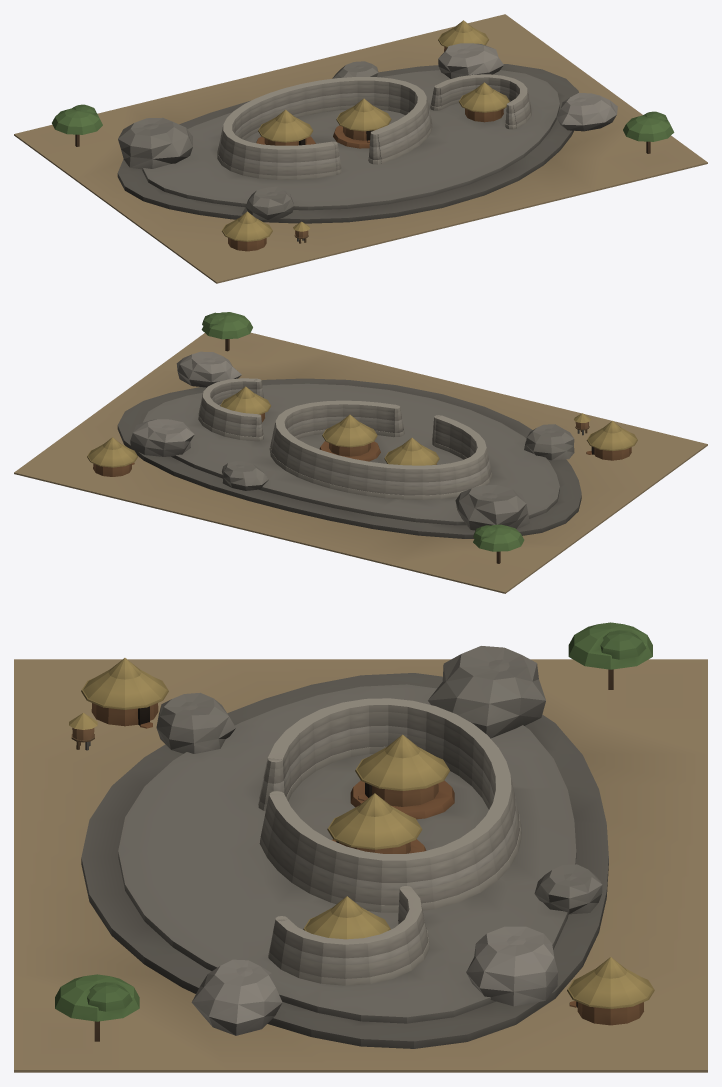
The model's file is ridge-ruins.glb.
The picture shows the model from 3 angles, top to bottom: view 1: azimuth 30°, elevation 25°; view 2: azimuth 150°, elevation 25°; view 3: azimuth 270°, elevation 25°; orthographic projection. The views are drawn at different scales.
Visible parts, largest first — view 1: p0_ridge, p1_walls, p2_houses; view 2: p0_ridge, p1_walls, p2_houses; view 3: p0_ridge, p1_walls, p2_houses.
Boxes of the visible parts, bbox=[...] form: p0_ridge: bbox=[14, 14, 707, 283]; p1_walls: bbox=[217, 74, 531, 179]; p2_houses: bbox=[52, 20, 674, 251]; p0_ridge: bbox=[14, 332, 707, 593]; p1_walls: bbox=[198, 378, 492, 499]; p2_houses: bbox=[87, 312, 637, 563]; p0_ridge: bbox=[14, 646, 707, 1072]; p1_walls: bbox=[258, 698, 521, 985]; p2_houses: bbox=[55, 622, 654, 1041].
Bounding box in the file's own units: 70 × 6.36 × 50.
